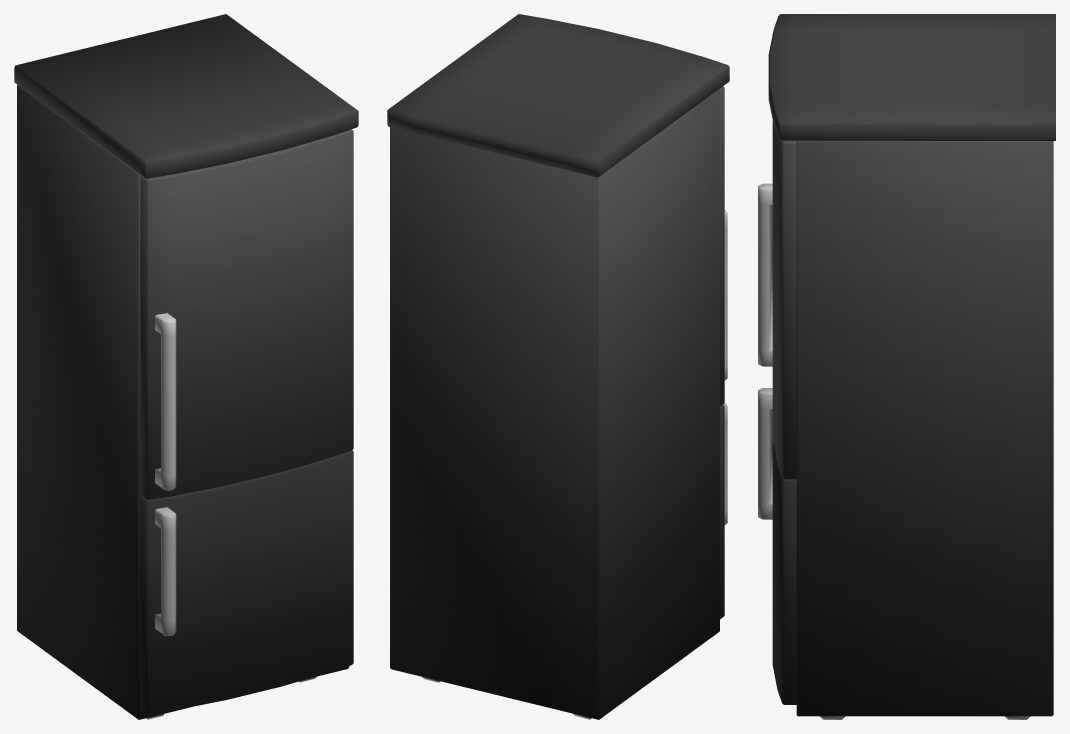
File: SM_Refrigerato_4.fbx
The picture shows the model from 3 angles, left to right: view 1: azimuth 30°, elevation 25°; view 2: azimuth 150°, elevation 25°; view 3: azimuth 270°, elevation 25°; orthographic projection. The views are drawn at different scales.
Visible parts, largest first — view 1: SM_Refrigerato_4; view 2: SM_Refrigerato_4; view 3: SM_Refrigerato_4.
Boxes of the visible parts, x1,y1,x2,y2 form: SM_Refrigerato_4: (14, 14, 358, 719); SM_Refrigerato_4: (387, 14, 729, 719); SM_Refrigerato_4: (758, 14, 1055, 719).
Bounding box in the file's own units: 81.91 × 211 × 93.77.
1 material, 1 textured.
